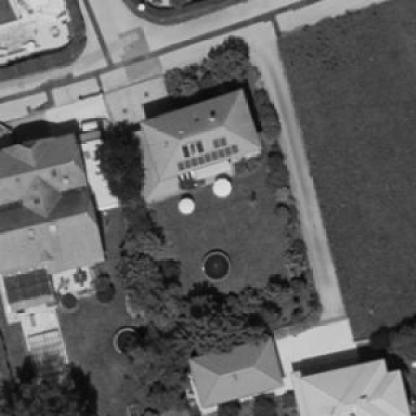solar-pv-panel: (177, 136, 239, 172), (180, 139, 205, 159)
